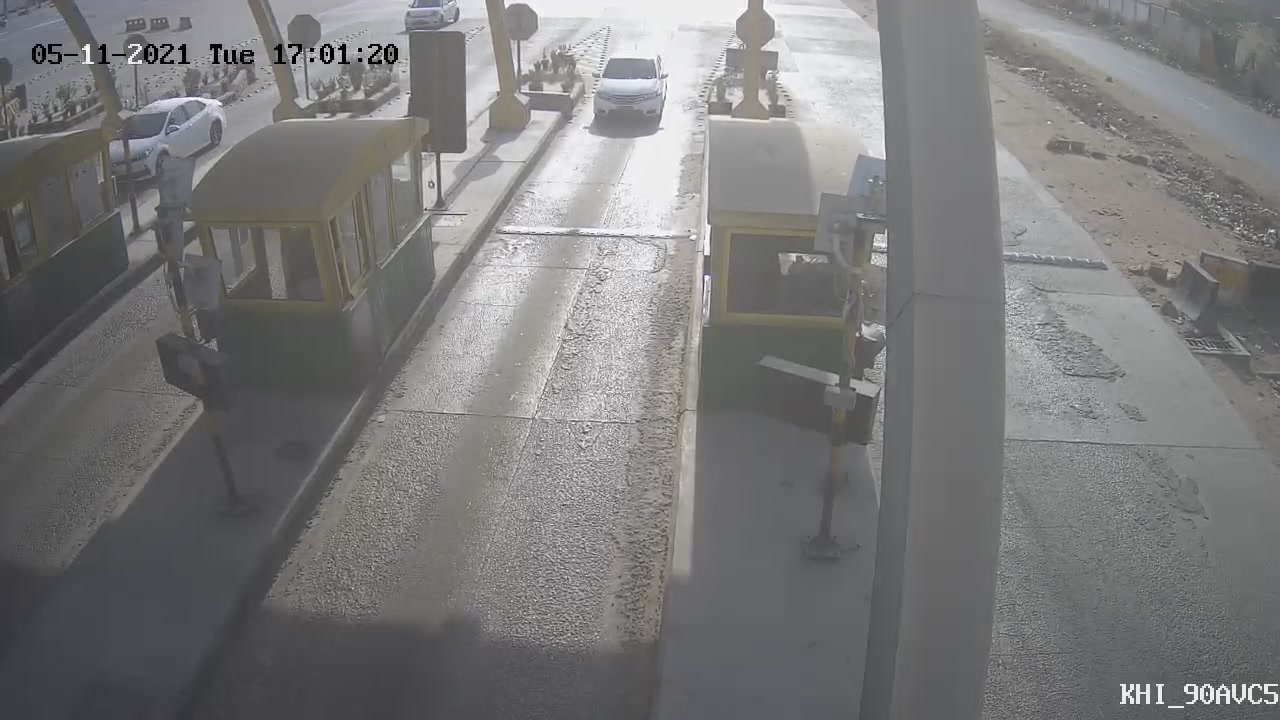F1: (573, 39, 685, 149)
